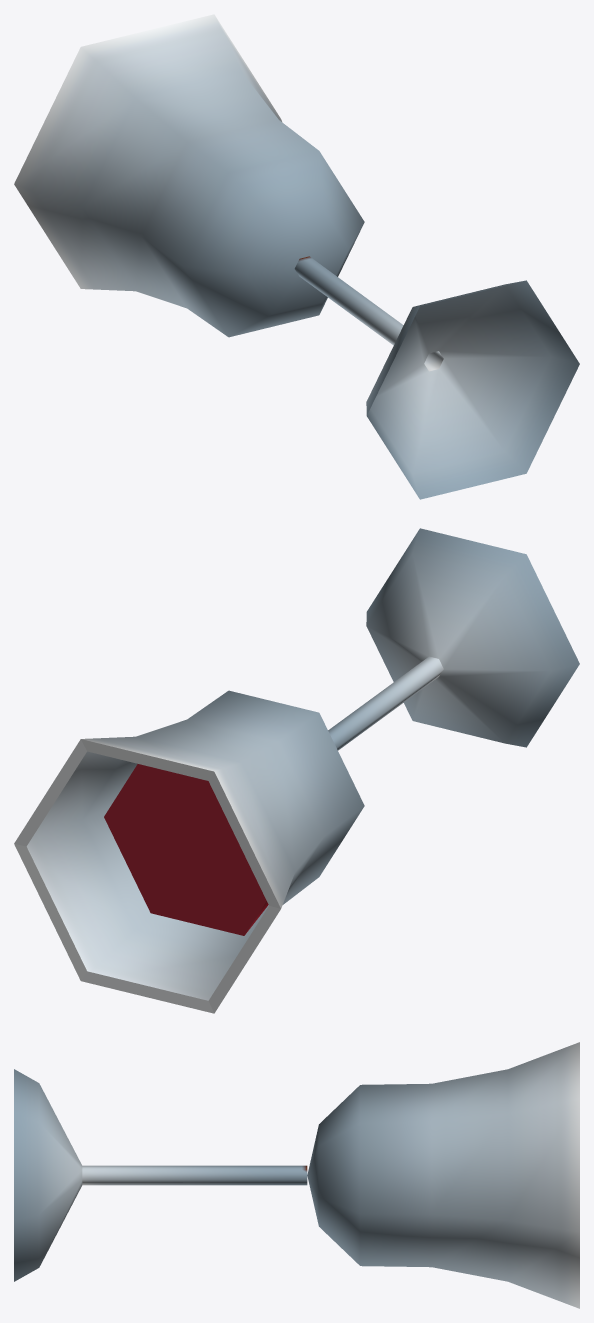
File: Glass_A.fbx
3 renders of one model, top to bottom at view 1: azimuth 30°, elevation 25°; view 2: azimuth 150°, elevation 25°; view 3: azimuth 270°, elevation 25°, orthographic. The views are drawn at different scales.
Parts seen in each view (by area): view 1: Glass_A; view 2: Glass_A; view 3: Glass_A.
Boxes of the visible parts, x1=… form: Glass_A: x1=14, y1=14, x2=579, y2=499; Glass_A: x1=14, y1=528, x2=579, y2=1013; Glass_A: x1=14, y1=1042, x2=579, y2=1308.
Size of the model in its own units: 1.7 by 1.48 by 3.6.
